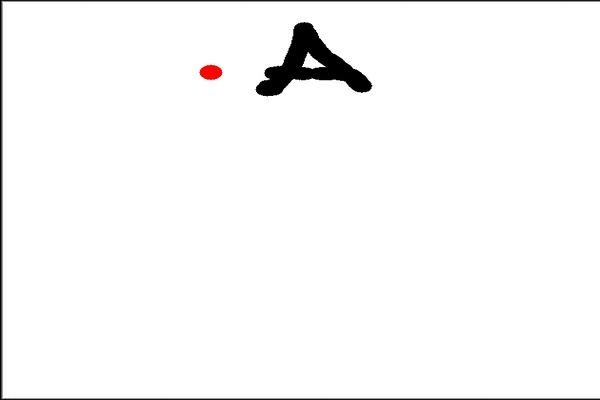A: (247, 17, 375, 101)
